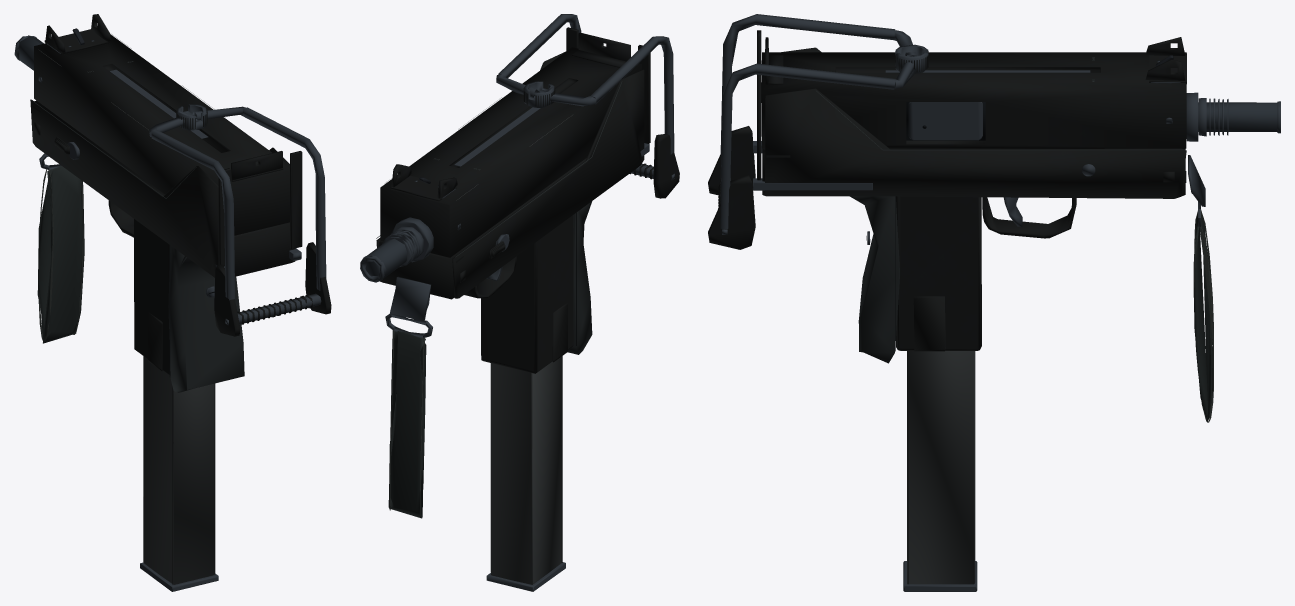
Rendered from MAC10.glb.
The picture shows the model from 3 angles, left to right: view 1: azimuth 30°, elevation 25°; view 2: azimuth 150°, elevation 25°; view 3: azimuth 270°, elevation 25°; orthographic projection. The views are drawn at different scales.
Visible parts, largest first — view 1: UpperReceiver_Mesh, Magazine_Mesh, LowerReceiver_Mesh, Grip_Mesh, Stock_Mesh, FrontStrap_Mesh, FrontSight_Mesh, RearSight_Mesh, ChargingHandle_Mesh, MuzzleExterior_Mesh; view 2: UpperReceiver_Mesh, Magazine_Mesh, LowerReceiver_Mesh, Grip_Mesh, FrontStrap_Mesh, Stock_Mesh, MuzzleExterior_Mesh, FrontSight_Mesh, RearSight_Mesh, ChargingHandle_Mesh; view 3: UpperReceiver_Mesh, LowerReceiver_Mesh, Grip_Mesh, Magazine_Mesh, Stock_Mesh, FrontStrap_Mesh, MuzzleExterior_Mesh, VisibleBolt_Mesh, FrontSight_Mesh, ChargingHandle_Mesh.
Boxes of the visible parts, x1,y1,x2,y2 form: UpperReceiver_Mesh: (34, 33, 289, 235); Magazine_Mesh: (140, 356, 218, 591); LowerReceiver_Mesh: (30, 99, 295, 277); Grip_Mesh: (134, 219, 244, 392); Stock_Mesh: (149, 106, 331, 336); FrontStrap_Mesh: (37, 153, 84, 343); FrontSight_Mesh: (44, 14, 110, 54); RearSight_Mesh: (231, 151, 283, 181); ChargingHandle_Mesh: (176, 104, 207, 130); MuzzleExterior_Mesh: (14, 35, 43, 70); UpperReceiver_Mesh: (380, 47, 641, 257); Magazine_Mesh: (486, 356, 565, 591); LowerReceiver_Mesh: (376, 51, 644, 299); Grip_Mesh: (481, 201, 592, 373); FrontStrap_Mesh: (385, 276, 432, 518); Stock_Mesh: (496, 14, 679, 198); MuzzleExterior_Mesh: (360, 217, 433, 282); FrontSight_Mesh: (390, 164, 457, 201); RearSight_Mesh: (572, 32, 630, 67); ChargingHandle_Mesh: (523, 81, 555, 107); UpperReceiver_Mesh: (761, 52, 1186, 149); LowerReceiver_Mesh: (762, 47, 1186, 238); Grip_Mesh: (850, 196, 981, 363); Magazine_Mesh: (903, 351, 977, 591); Stock_Mesh: (708, 14, 916, 249); FrontStrap_Mesh: (1188, 155, 1213, 422); MuzzleExterior_Mesh: (1186, 92, 1280, 141); VisibleBolt_Mesh: (908, 102, 982, 140); FrontSight_Mesh: (1145, 37, 1186, 83); ChargingHandle_Mesh: (895, 44, 928, 73).
Bounding box in the file's own units: 0.0699 × 0.3254 × 0.3126.
12 materials, 2 textured.
